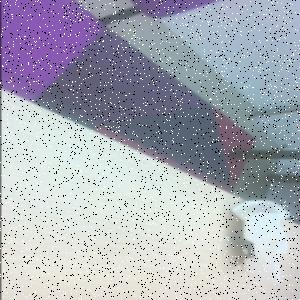Cup: (231, 201, 292, 285)
